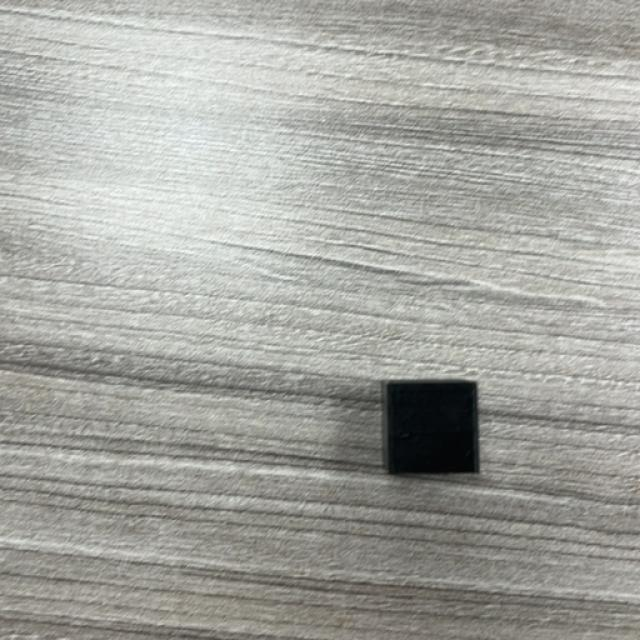Negro: (381, 379, 480, 476)
